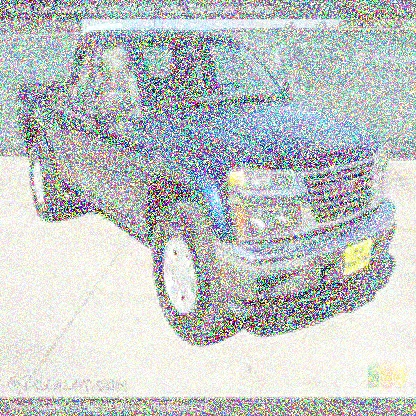Vehicle: (13, 28, 403, 349)
